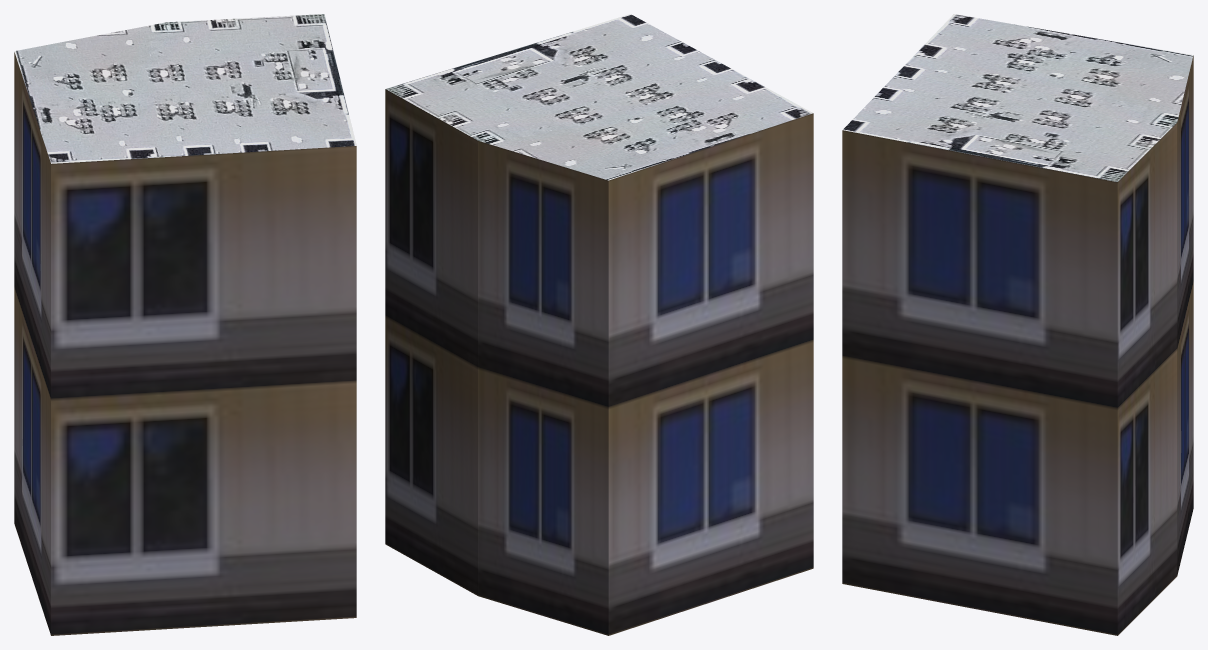
Rendered from ResTex__2083.fbx.
The picture shows the model from 3 angles, left to right: view 1: azimuth 30°, elevation 25°; view 2: azimuth 150°, elevation 25°; view 3: azimuth 270°, elevation 25°; orthographic projection. The views are drawn at different scales.
Visible parts, largest first — view 1: CityEngineMaterial_5_m, CityEngineMaterial_8_m; view 2: CityEngineMaterial_5_m, CityEngineMaterial_8_m; view 3: CityEngineMaterial_5_m, CityEngineMaterial_8_m.
Part boxes in pixels (x1,y1,x2,y2): CityEngineMaterial_5_m: (14, 52, 356, 635); CityEngineMaterial_8_m: (14, 14, 356, 163); CityEngineMaterial_5_m: (385, 89, 813, 635); CityEngineMaterial_8_m: (386, 14, 812, 180); CityEngineMaterial_5_m: (842, 55, 1193, 635); CityEngineMaterial_8_m: (842, 14, 1193, 181).
Size of the model in its own units: 4.77 by 6 by 4.21.
2 materials, 2 textured.
